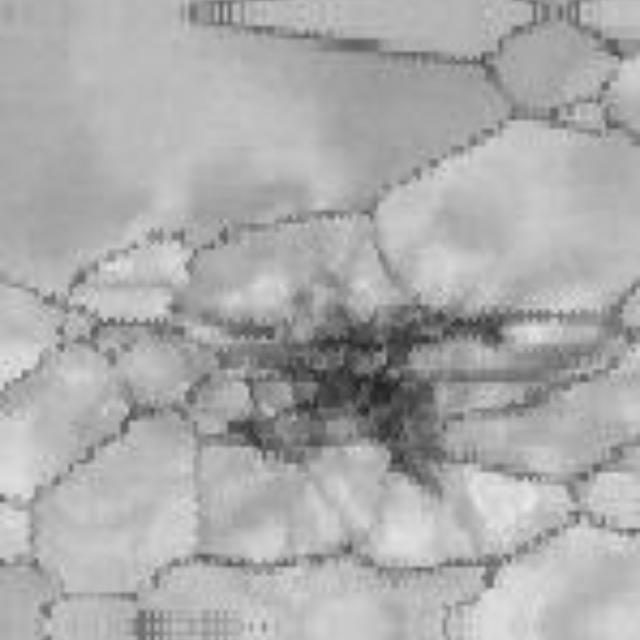good_void: (209, 274, 509, 508)
